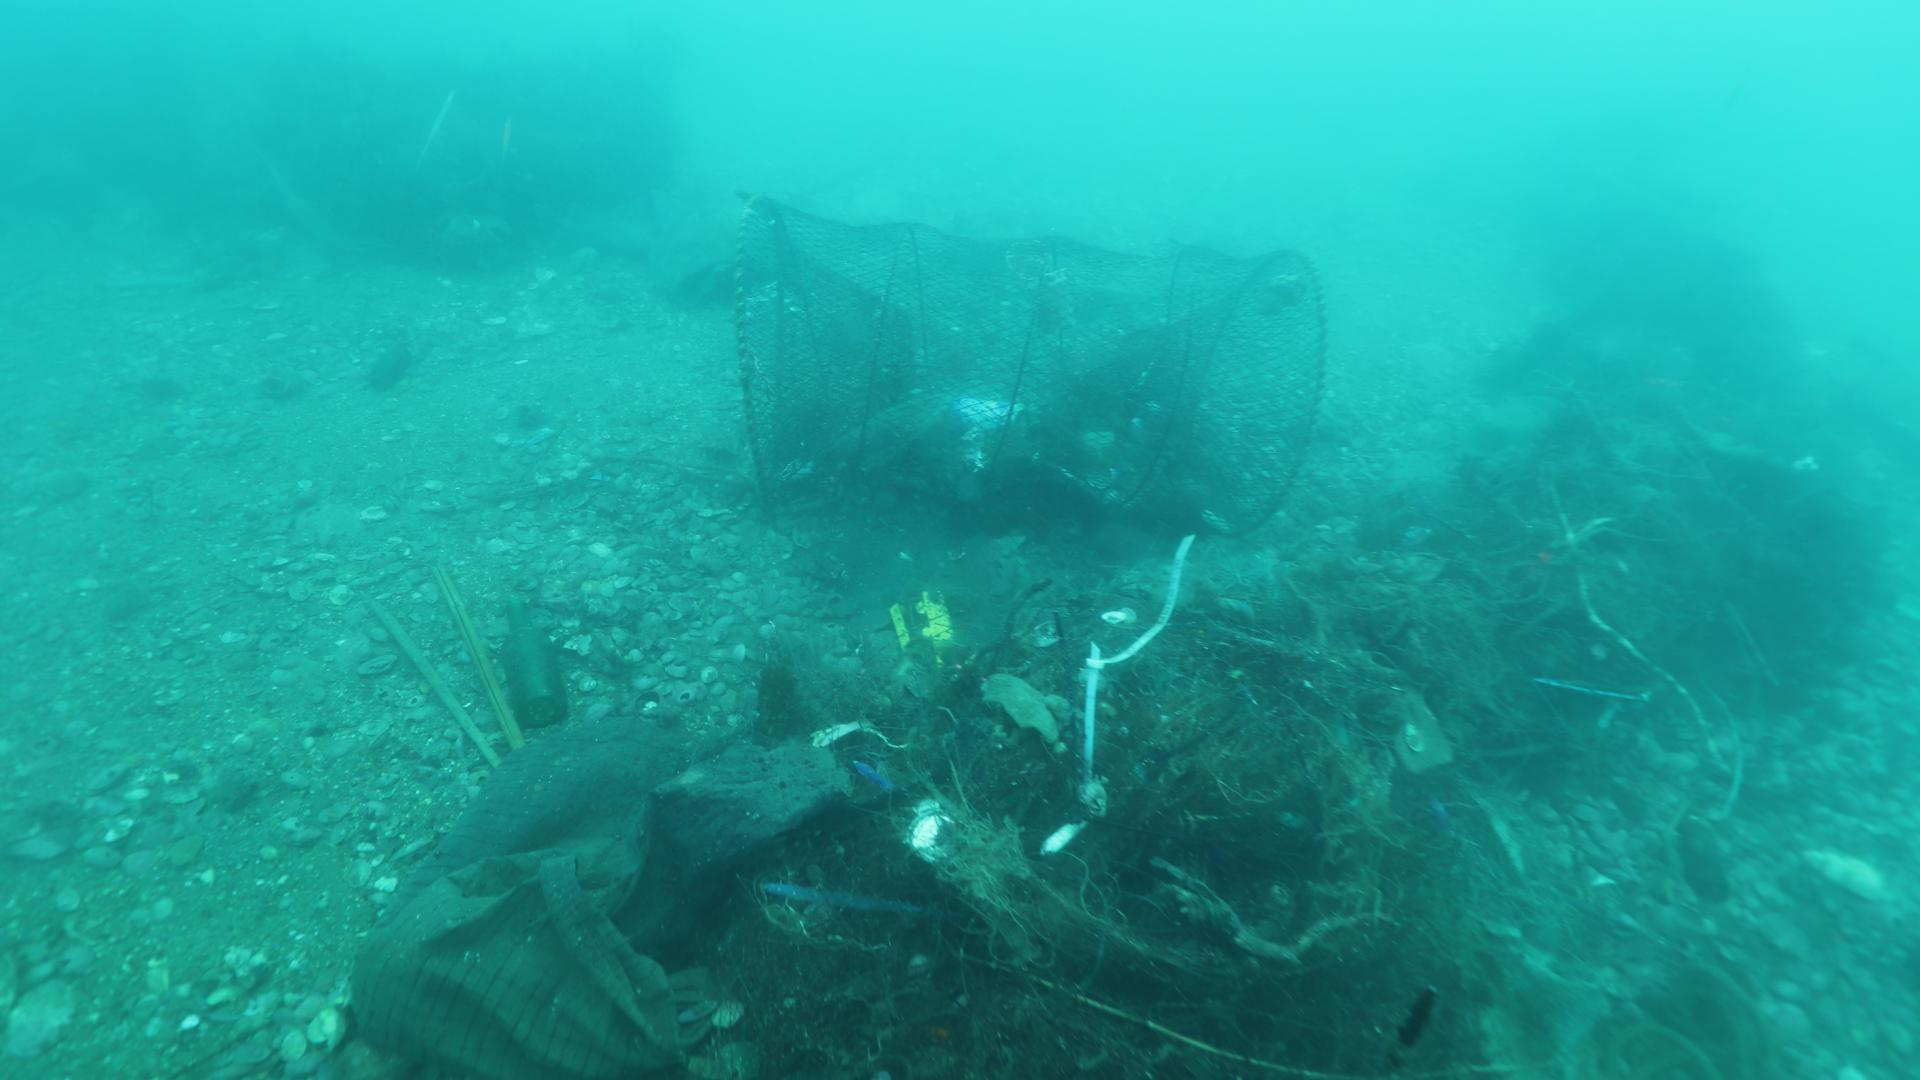spring fish trap: (738, 190, 1333, 543)
